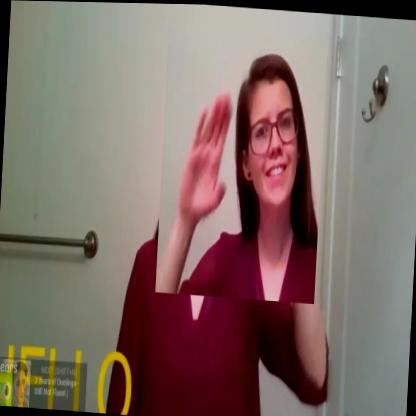Hello: (155, 28, 328, 303)
